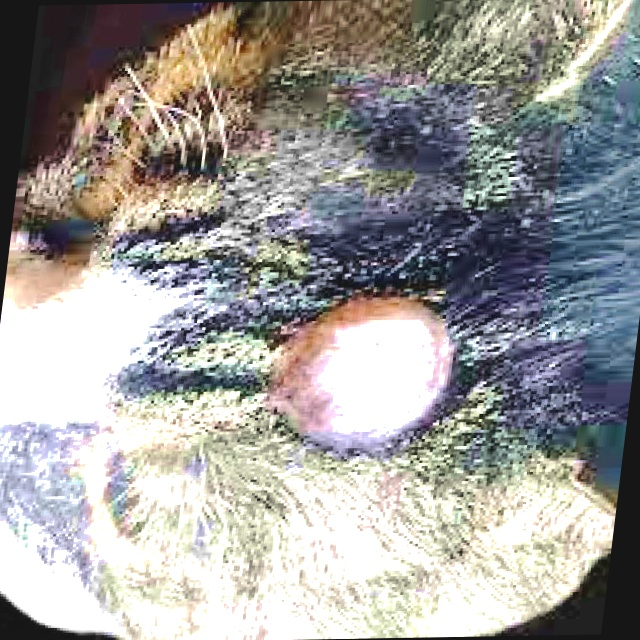lump_and_bump: (259, 291, 477, 446)
